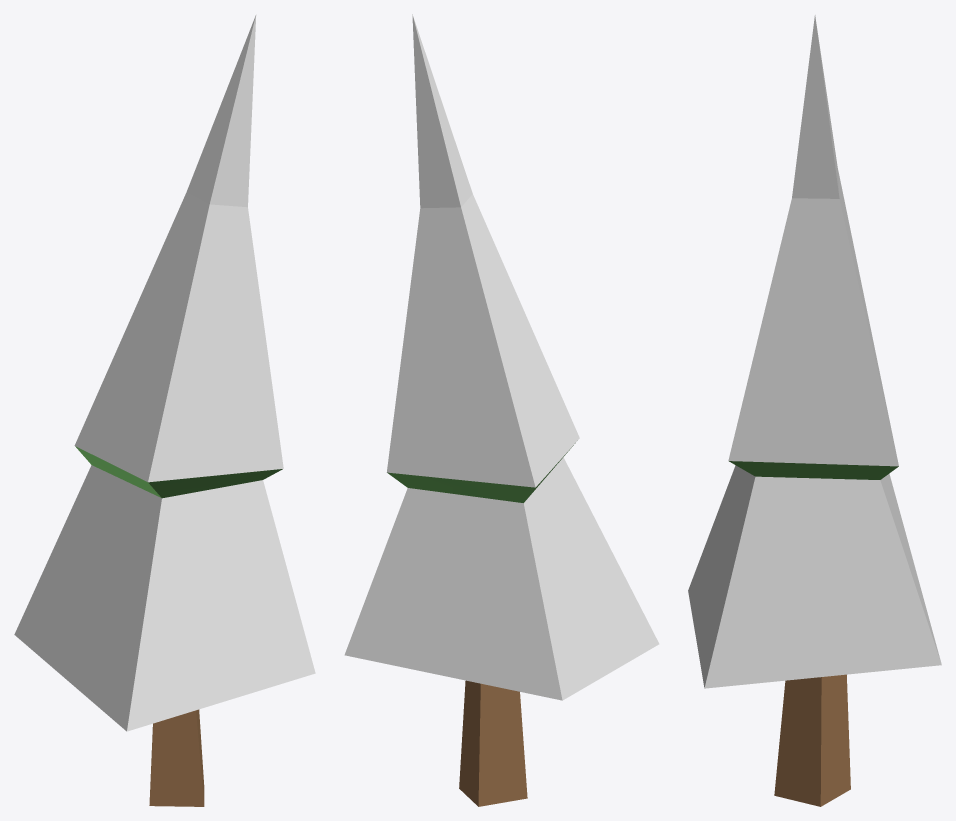
The model's file is Fir_Tree_s_Snow_BT_06.fbx.
3 views of the same model, side by side, from view 1: azimuth 30°, elevation 25°; view 2: azimuth 150°, elevation 25°; view 3: azimuth 270°, elevation 25° (orthographic). The views are drawn at different scales.
Visible parts, largest first — view 1: Fir_Tree_s_Snow_BT_06; view 2: Fir_Tree_s_Snow_BT_06; view 3: Fir_Tree_s_Snow_BT_06.
Part boxes in pixels (box(x1,y1,x2,y2)): Fir_Tree_s_Snow_BT_06: box(14, 14, 315, 806); Fir_Tree_s_Snow_BT_06: box(344, 14, 659, 806); Fir_Tree_s_Snow_BT_06: box(688, 15, 941, 806).
Size of the model in its own units: 43.42 by 154 by 43.27.
